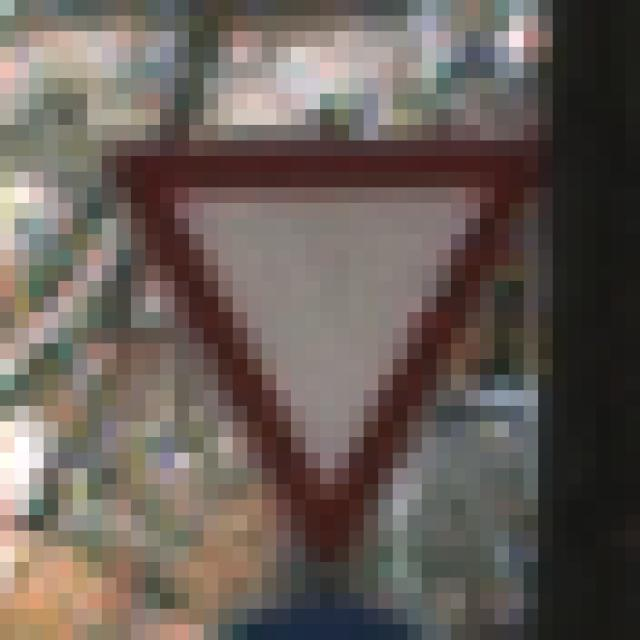Give Way: (89, 79, 569, 563)
